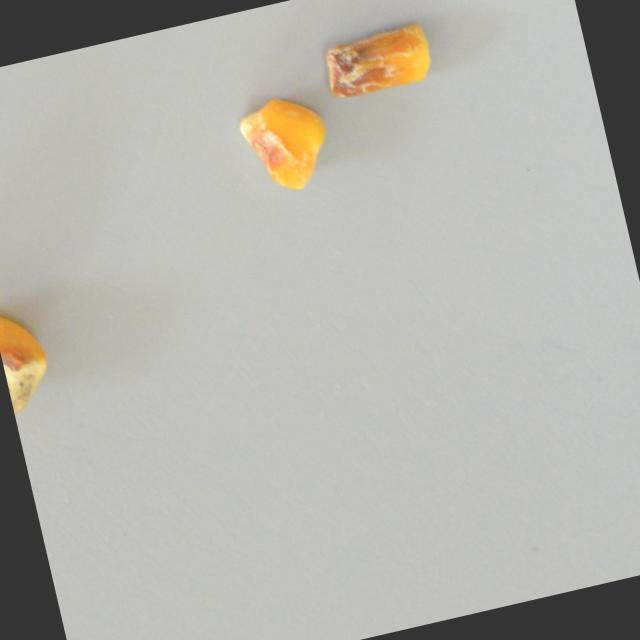dañado: (225, 80, 341, 209), (314, 9, 445, 114), (0, 287, 64, 426)
